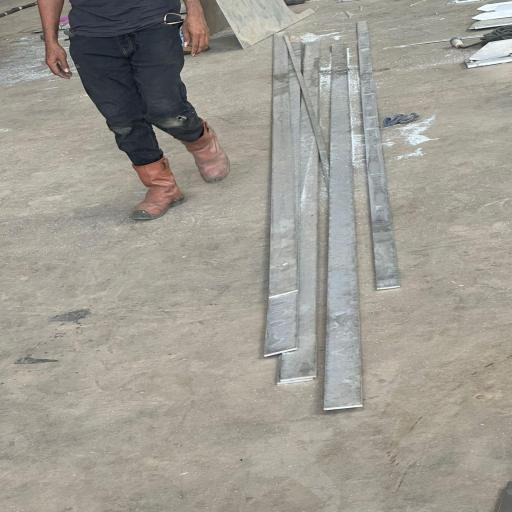safety_shoe: (114, 160, 189, 224), (181, 128, 236, 183)
